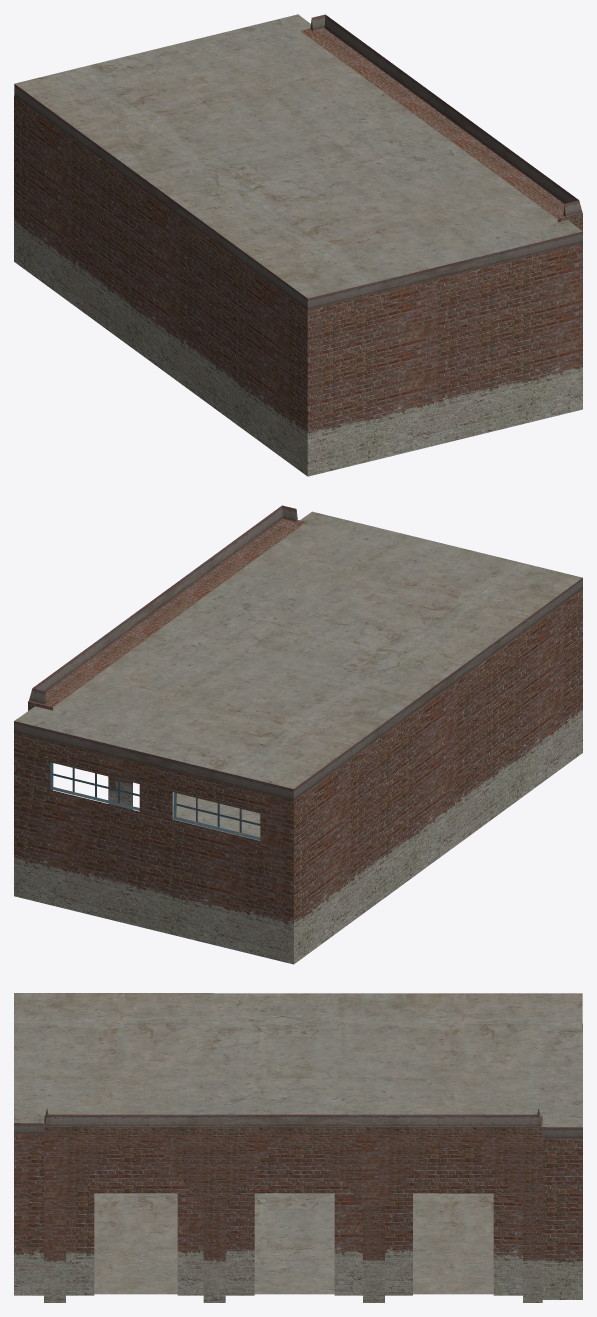
The model's file is Building_Factoryhouse01_2048_lod2.glb.
3 views of the same model, one above another, from view 1: azimuth 30°, elevation 25°; view 2: azimuth 150°, elevation 25°; view 3: azimuth 270°, elevation 25° (orthographic). The views are drawn at different scales.
Visible parts, largest first — view 1: xiutz_factoryhouse_01_lod2; view 2: xiutz_factoryhouse_01_lod2; view 3: xiutz_factoryhouse_01_lod2.
Part boxes in pixels (x1,y1,x2,y2): xiutz_factoryhouse_01_lod2: [14, 14, 582, 476]; xiutz_factoryhouse_01_lod2: [14, 505, 582, 964]; xiutz_factoryhouse_01_lod2: [14, 993, 582, 1302].
Size of the model in its own units: 20.26 by 12.88 by 35.46.
1 material, 1 textured.
